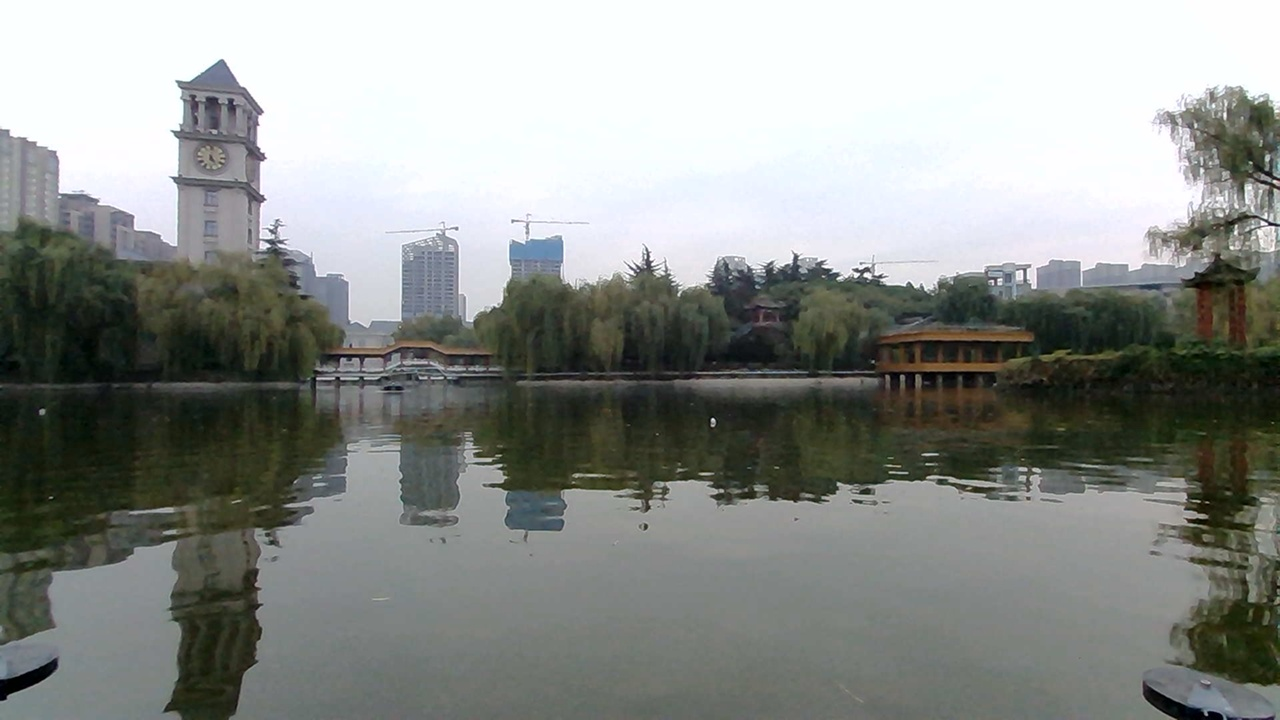bottle: (704, 405, 738, 430)
